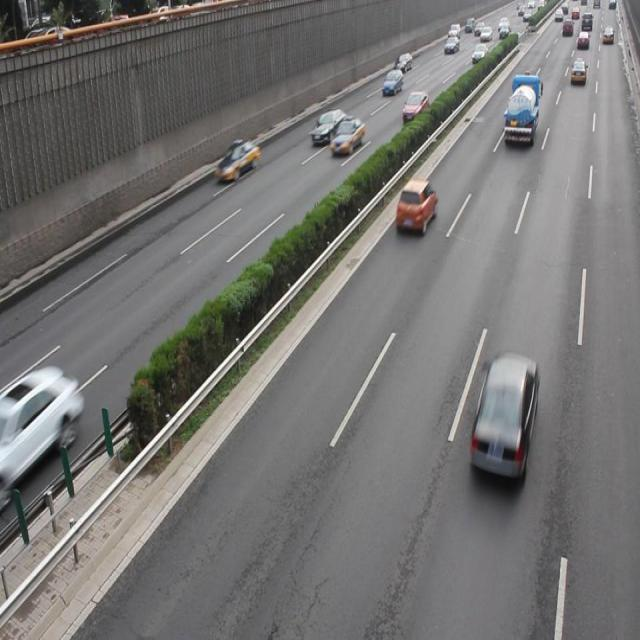bus: (504, 73, 538, 147)
car: (1, 366, 82, 497), (468, 350, 537, 480), (394, 178, 437, 234), (215, 138, 259, 181), (330, 115, 363, 154), (310, 108, 345, 144), (401, 91, 428, 125)
